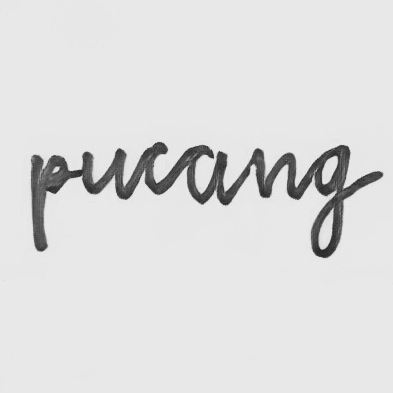a: (183, 143, 232, 206)
c: (141, 140, 173, 198)
g: (308, 142, 352, 260)
n: (250, 146, 299, 202)
p: (26, 151, 72, 254)
u: (79, 146, 128, 200)
